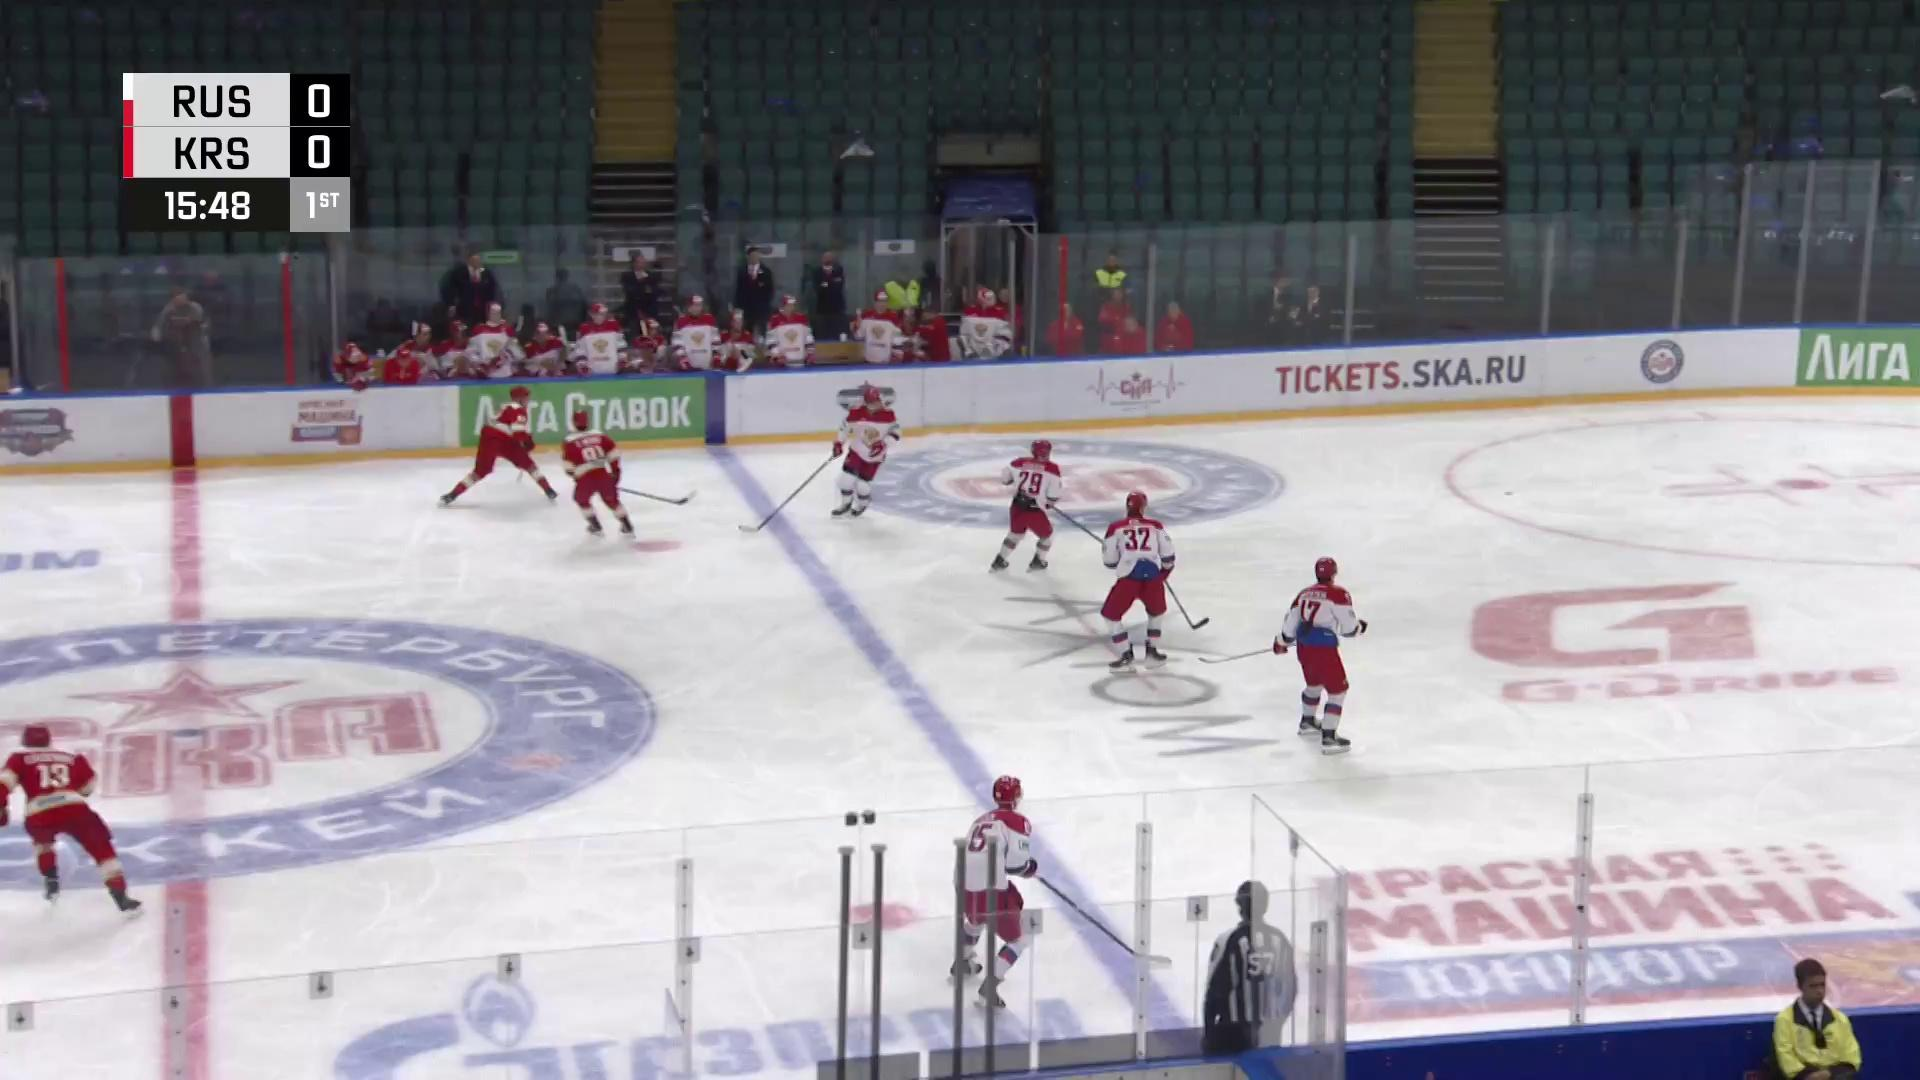ball: (1503, 489, 1514, 498)
